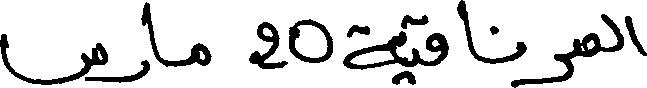X: (0, 29, 106, 87), (346, 20, 397, 87), (119, 0, 149, 87), (289, 14, 331, 67), (535, 37, 573, 87), (253, 17, 285, 73), (427, 12, 447, 70), (460, 0, 476, 63), (602, 9, 621, 56), (629, 11, 646, 60), (579, 28, 598, 61), (412, 13, 419, 87), (194, 38, 210, 70), (516, 37, 526, 87), (151, 16, 158, 65)
